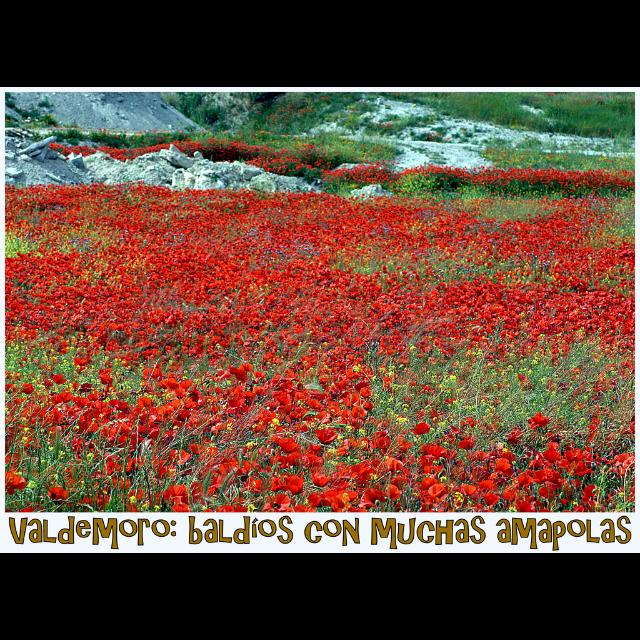Flower: (23, 147, 580, 548), (60, 88, 630, 136), (577, 154, 637, 511), (2, 180, 20, 502)
